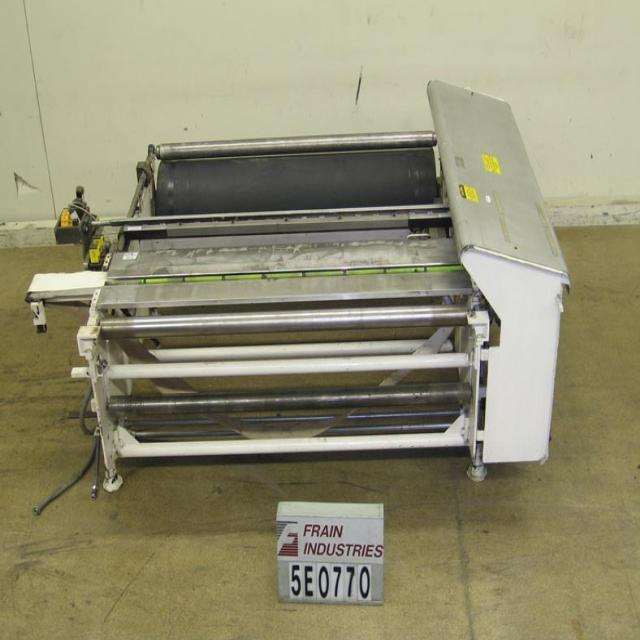conveyor: (34, 112, 589, 484)
